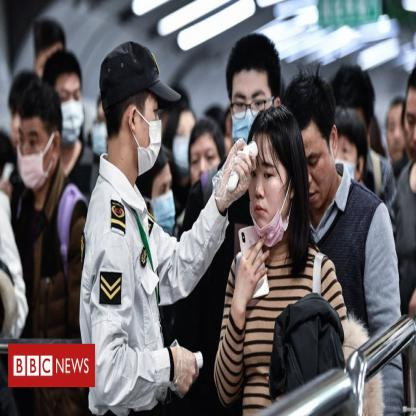Not_Wearing_Mask: (245, 158, 288, 248), (302, 145, 331, 210), (385, 114, 406, 164), (402, 107, 416, 169)
Wearing_Mask: (230, 86, 270, 149), (14, 125, 48, 190), (136, 100, 163, 178), (56, 84, 83, 146), (149, 173, 175, 235), (172, 120, 196, 175), (91, 110, 107, 158)
